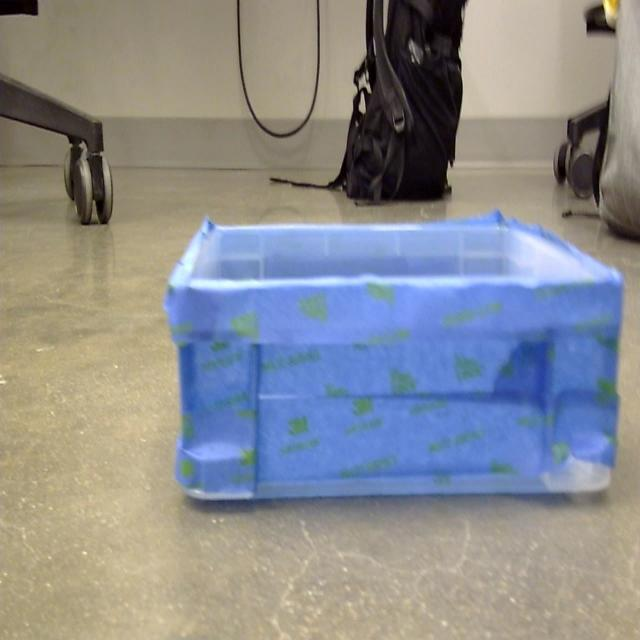bucket: (162, 212, 624, 507)
